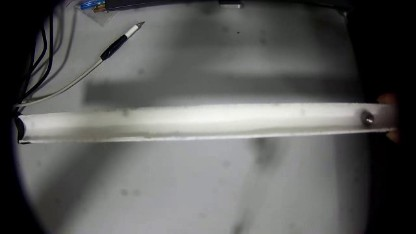gangzhu: (361, 110, 374, 126)
